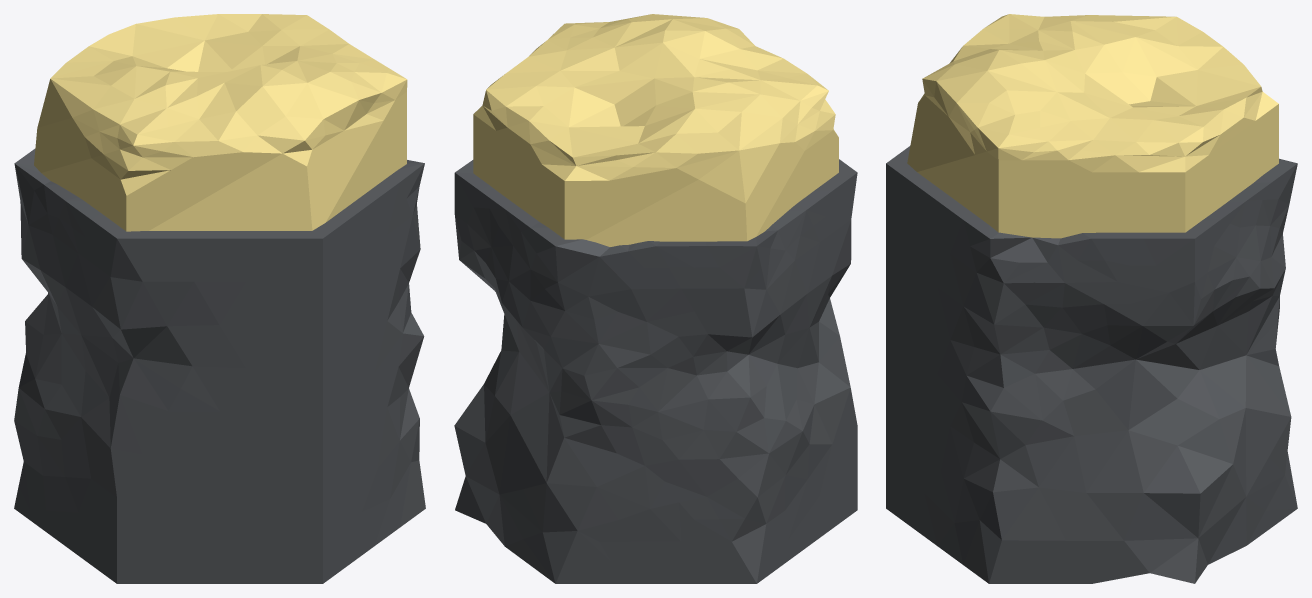
The model's file is desert.fbx.
3 views of the same model, side by side, from view 1: azimuth 30°, elevation 25°; view 2: azimuth 150°, elevation 25°; view 3: azimuth 270°, elevation 25° (orthographic). The views are drawn at different scales.
Visible parts, largest first — view 1: plain_base.001, plain_top.002; view 2: plain_base.001, plain_top.002; view 3: plain_base.001, plain_top.002.
Part boxes in pixels (left/top/right/bottom): plain_base.001: left=14, top=149, right=425, bottom=583; plain_top.002: left=34, top=14, right=407, bottom=231; plain_base.001: left=454, top=159, right=857, bottom=583; plain_top.002: left=473, top=14, right=838, bottom=246; plain_base.001: left=886, top=146, right=1297, bottom=583; plain_top.002: left=907, top=14, right=1278, bottom=238.
Bounding box in the file's own units: 234 × 323 × 263.
Materials: 2 (2 with a texture image).
